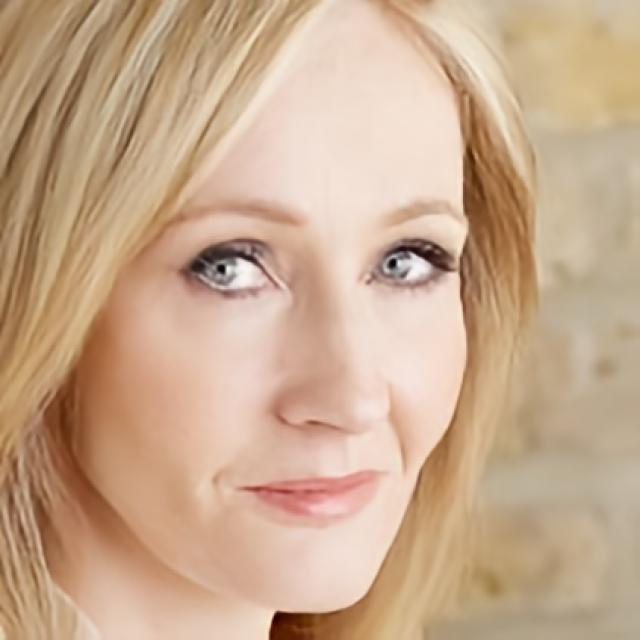content: (72, 2, 474, 615)
